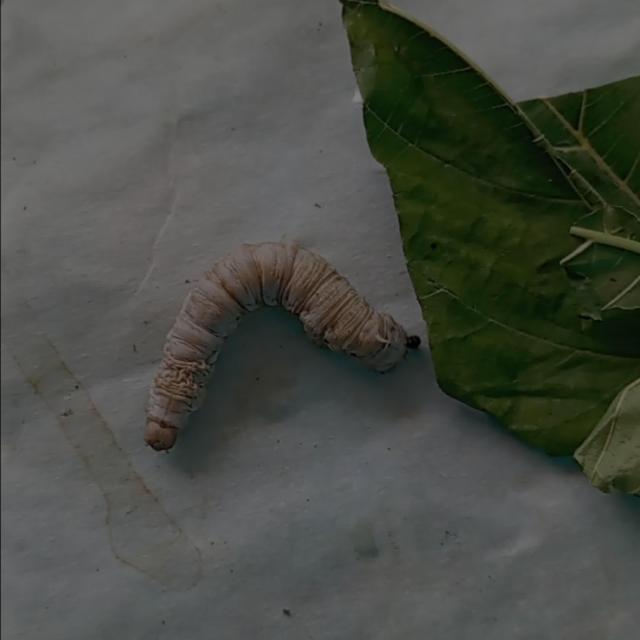Grasserie: (120, 205, 455, 475)
